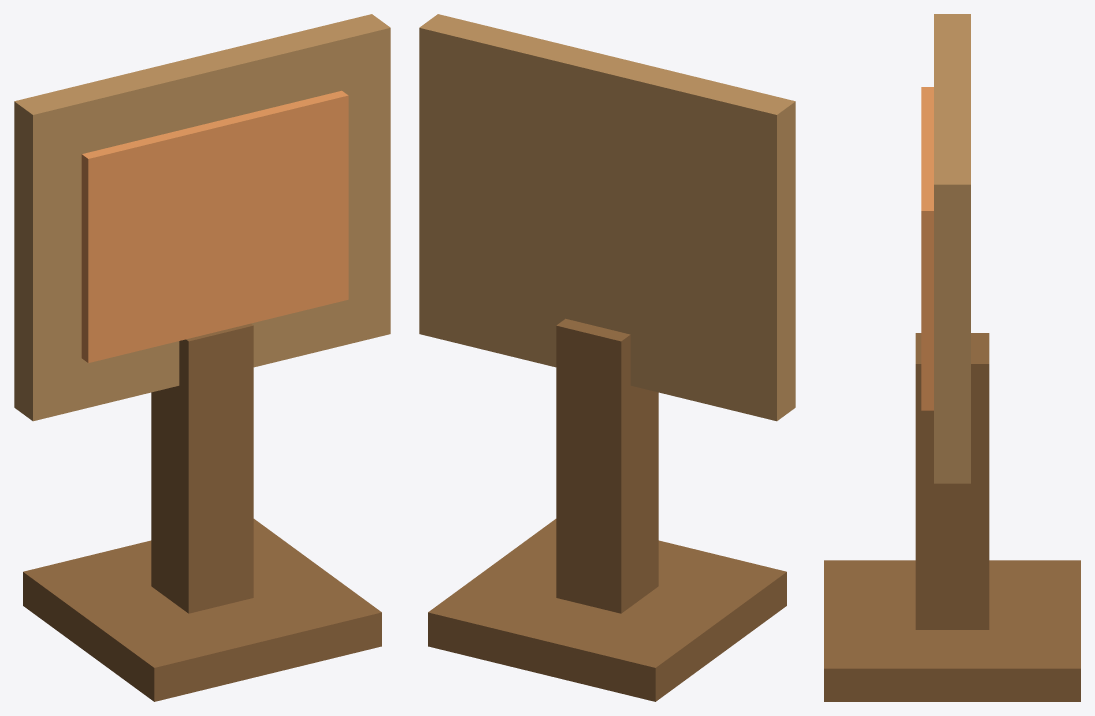
The model's file is wall_art.glb.
The picture shows the model from 3 angles, left to right: view 1: azimuth 30°, elevation 25°; view 2: azimuth 150°, elevation 25°; view 3: azimuth 270°, elevation 25°; orthographic projection. The views are drawn at different scales.
Visible parts, largest first — view 1: wall_art; view 2: wall_art; view 3: wall_art.
Part boxes in pixels (x1,y1,x2,y2): wall_art: (14,14,390,701); wall_art: (419,14,795,701); wall_art: (824,14,1080,701).
Size of the model in its own units: 22 by 33 by 14.
